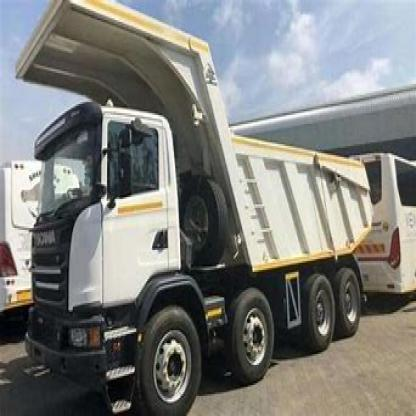dump_truck: (10, 9, 373, 411)
